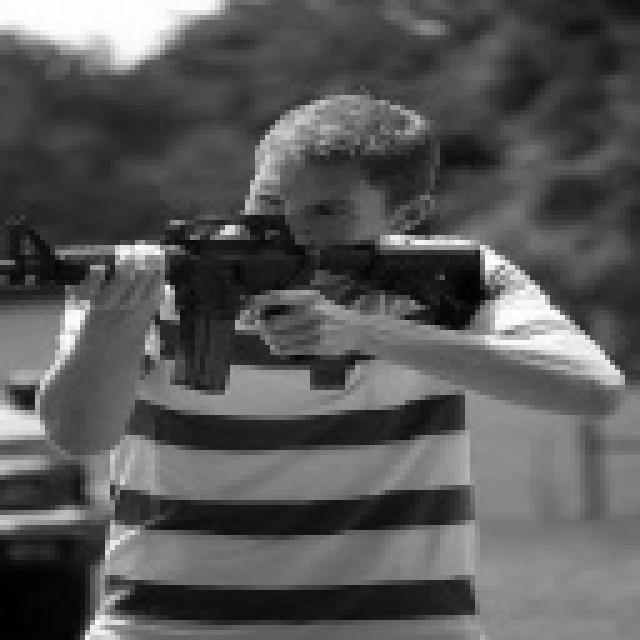Rifle: (0, 104, 563, 444)
